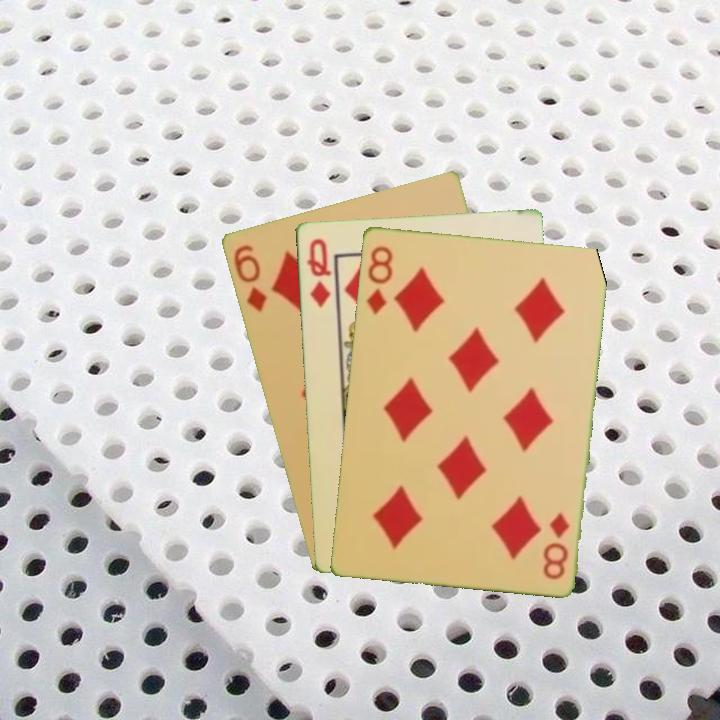6d: (229, 240, 269, 315)
8d: (539, 509, 572, 582), (363, 241, 395, 316)
Qd: (302, 234, 333, 310)
